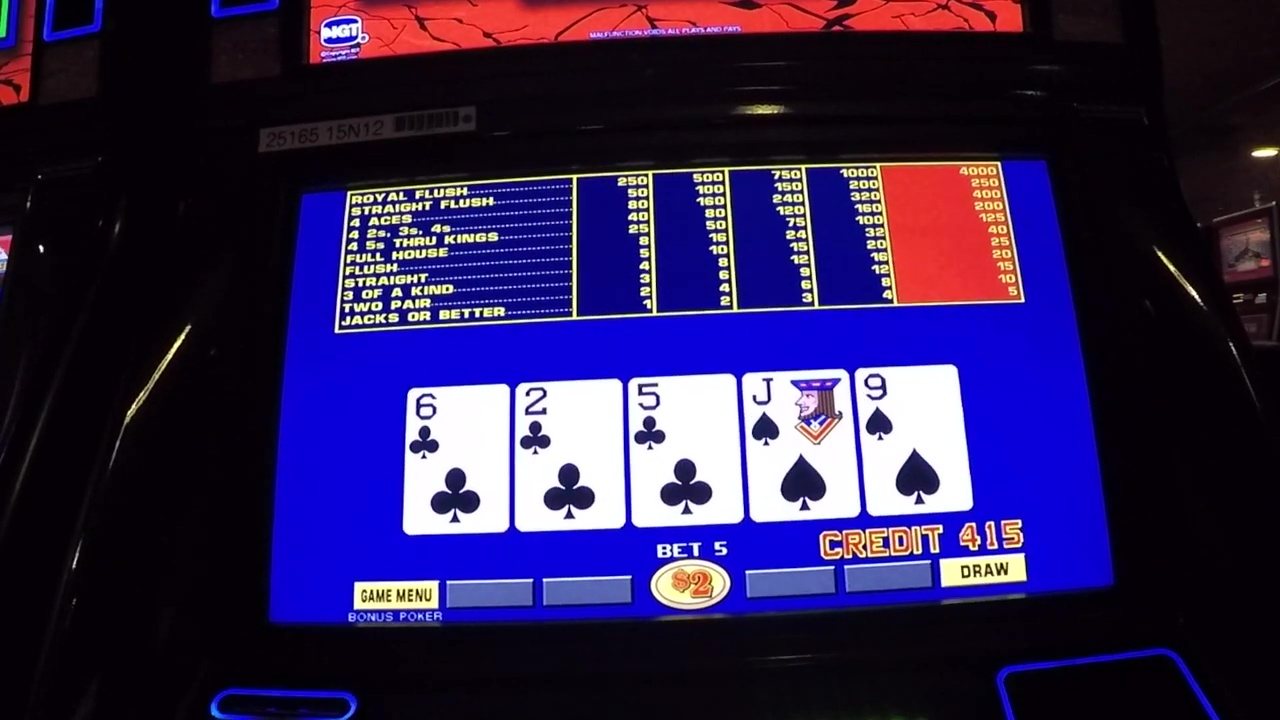C2: (519, 382, 619, 459)
C5: (630, 377, 737, 453)
C6: (409, 387, 508, 459)
S9: (862, 369, 956, 443)
SJ: (746, 371, 851, 450)
